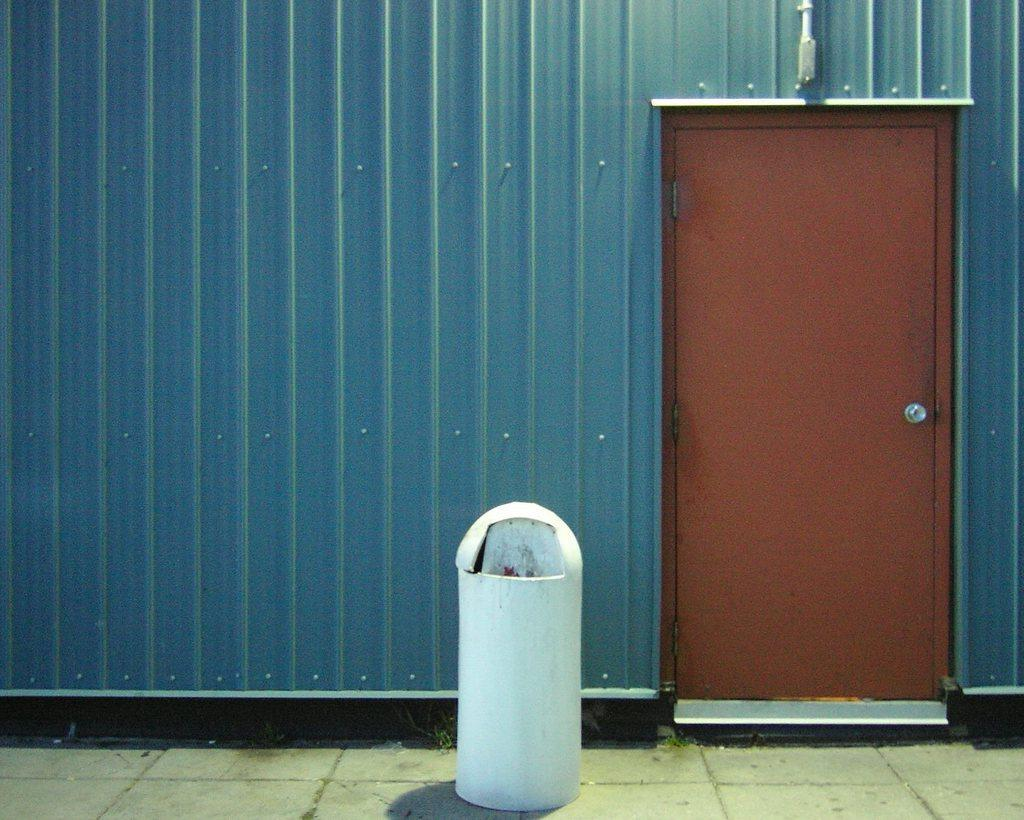door: (674, 133, 936, 704)
handle: (896, 390, 926, 438)
